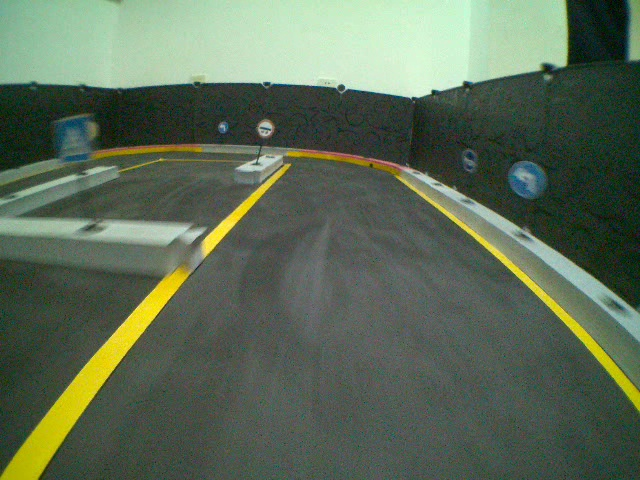Check: (257, 118, 275, 139)
horn: (462, 147, 475, 173)
turn: (507, 159, 549, 201), (218, 120, 230, 133)
